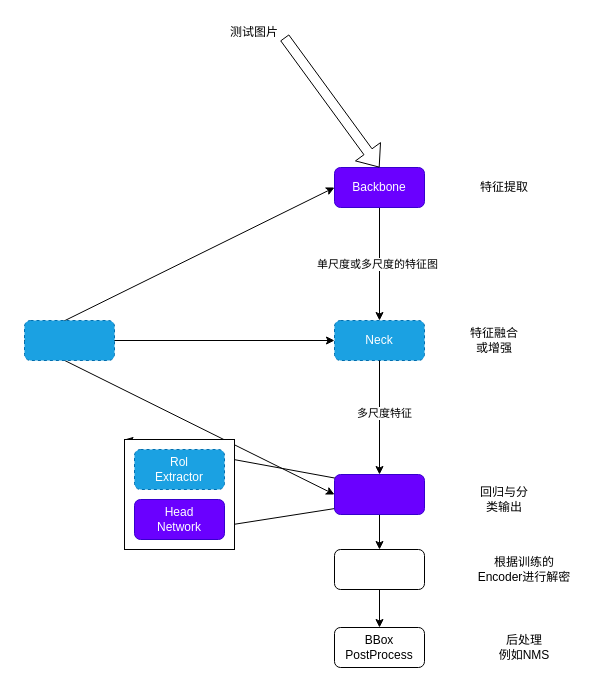
Some shapes in this 592 by 685 pixel diagram are drawn without their labels. Here are the shapes that lost their labels. From the top down, the centre of each, then its label:
the point at 69,340: Enhance
the point at 379,494: Head
the point at 379,569: BBox Decoder
